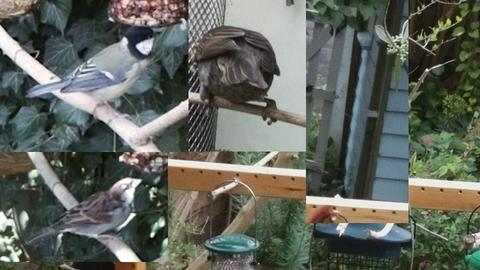great tit: (25, 25, 164, 127)
sparrow: (25, 177, 143, 247)
starling: (196, 25, 281, 126)
